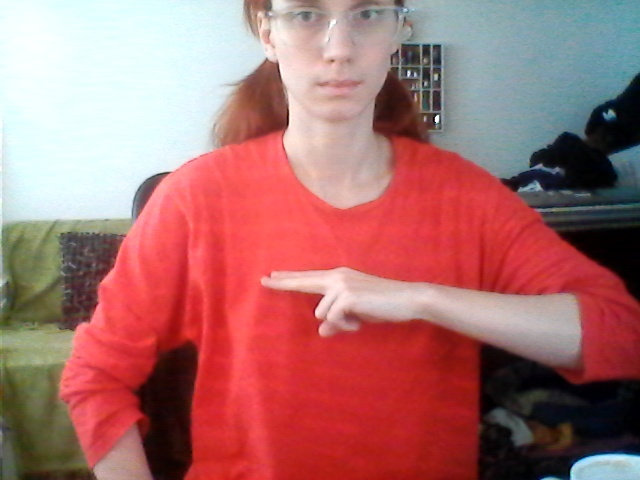frajer: (253, 249, 430, 352)
